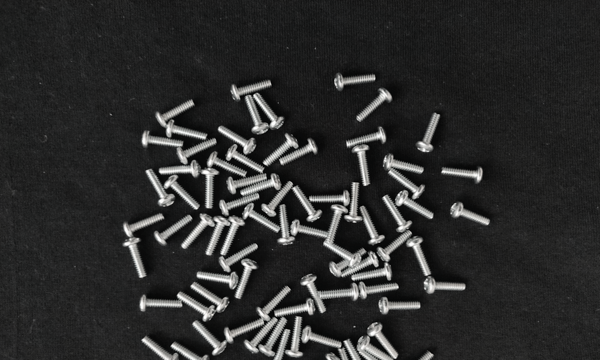shortscrew: (190, 320, 228, 357), (243, 317, 280, 355), (164, 174, 201, 210), (191, 281, 230, 314), (177, 290, 217, 322), (257, 286, 292, 322), (357, 87, 394, 121), (153, 216, 193, 247), (218, 243, 258, 274), (264, 132, 300, 166), (258, 317, 287, 359), (254, 93, 286, 131), (182, 214, 216, 249), (368, 322, 400, 359), (243, 203, 281, 234), (396, 190, 435, 220), (222, 318, 265, 345), (145, 169, 175, 207), (383, 195, 413, 233), (292, 185, 322, 223), (329, 248, 368, 277), (155, 99, 195, 127), (225, 145, 265, 173), (450, 201, 492, 227), (323, 240, 362, 268), (389, 170, 425, 200), (338, 251, 381, 276), (218, 126, 256, 154), (221, 215, 246, 257), (417, 111, 442, 153), (301, 274, 327, 314), (406, 236, 432, 276), (235, 259, 260, 300), (122, 238, 147, 279), (123, 213, 165, 237), (206, 214, 230, 256), (301, 326, 343, 349), (196, 268, 238, 291), (358, 334, 395, 360), (246, 95, 270, 135), (361, 206, 385, 246), (281, 140, 319, 165), (227, 172, 268, 195), (230, 79, 272, 101), (346, 126, 388, 148), (241, 174, 283, 196), (142, 336, 179, 360), (359, 280, 399, 302), (334, 72, 377, 92), (220, 192, 259, 214), (318, 283, 360, 303), (352, 145, 372, 187), (166, 120, 208, 140), (327, 203, 348, 243), (440, 166, 484, 185), (383, 154, 424, 174), (286, 317, 305, 359), (275, 299, 317, 318), (379, 297, 422, 315), (351, 263, 394, 281), (345, 183, 364, 223), (290, 220, 330, 239), (160, 160, 202, 178), (424, 276, 466, 294), (141, 131, 183, 149), (378, 235, 407, 261), (171, 342, 211, 360), (277, 206, 295, 246), (139, 296, 183, 312), (268, 330, 291, 360), (309, 191, 351, 206), (344, 339, 373, 360), (359, 348, 396, 360), (399, 351, 435, 360), (339, 348, 362, 360), (309, 353, 341, 360)
